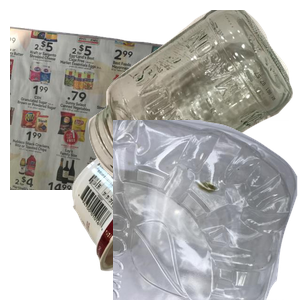glass: (86, 10, 300, 184)
paper: (10, 21, 222, 201)
plastic: (113, 120, 300, 300)
trash: (70, 149, 254, 300)
